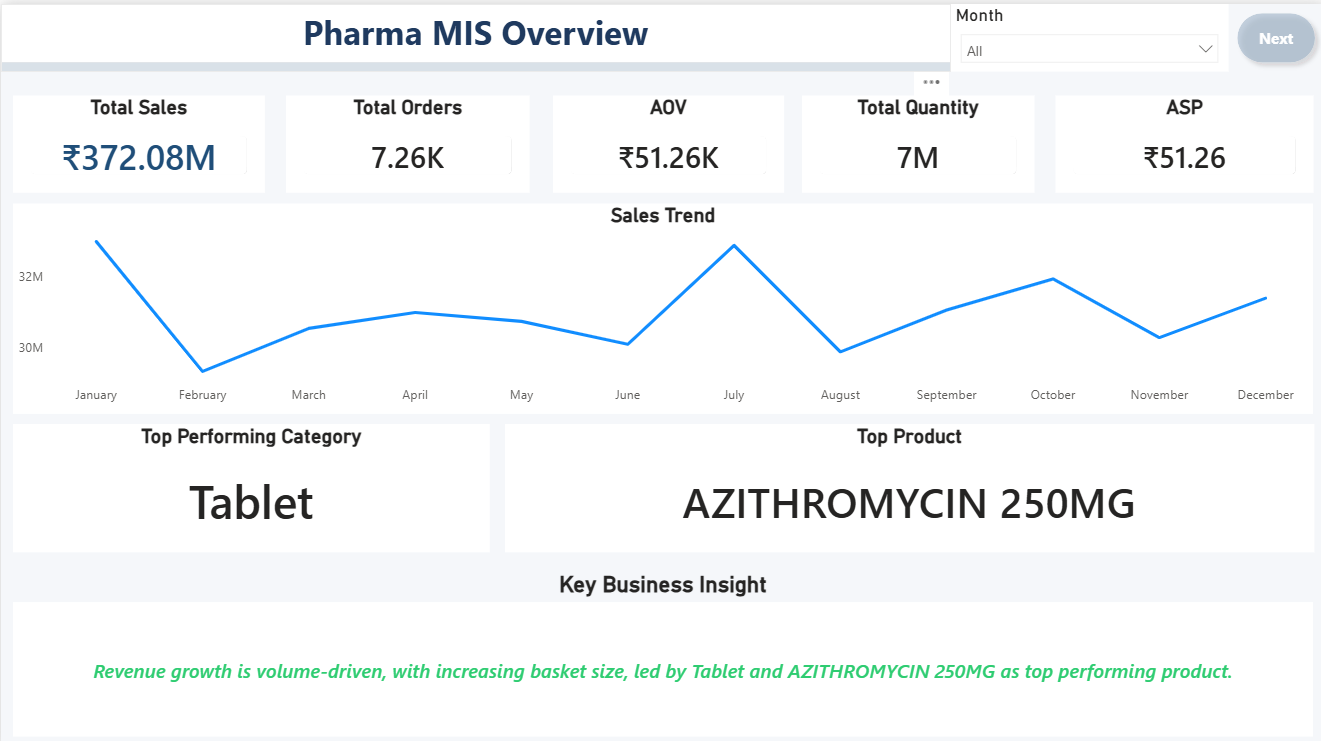

The dashboard page shown, as its layout file describes it:
{"tool":"powerbi","page":{"name":"Page 1","canvas":[1280,720],"ordinal":0},"visuals":[{"type":"textbox","box":[0,0,917.2,55.9],"z":0,"group":"g1"},{"type":"cardVisual","title":"Total Sales","fields":{"Data":["Measures_Table.Total Sales"]},"box":[12.3,87.7,243.1,93.8],"z":0},{"type":"shape","box":[0,56.8,917.2,8.8],"z":1000,"group":"g1"},{"type":"cardVisual","title":"Total Orders","fields":{"Data":["Measures_Table.Total Orders"]},"box":[275.4,87.7,235.4,93.8],"z":1000},{"type":"cardVisual","title":"AOV","fields":{"Data":["Measures_Table.AOV"]},"box":[533.8,87.7,223.1,93.8],"z":2000},{"type":"cardVisual","title":"Total Quantity","fields":{"Data":["Measures_Table.Total Quantity"]},"box":[773.8,87.7,224.6,93.8],"z":3000},{"type":"cardVisual","title":"ASP","fields":{"Data":["Measures_Table.Avg Selling Price"]},"box":[1018.5,87.7,249.2,93.8],"z":4000},{"type":"cardVisual","title":"Key Business Insight","fields":{"Data":["Measures_Table.Final Insight"]},"box":[12.1,548.5,1256.1,160.6],"z":5000},{"type":"cardVisual","title":"Top Performing Category","fields":{"Data":["Measures_Table.Top Category Name"]},"box":[12.1,406.1,460.6,124.2],"z":6000},{"type":"cardVisual","title":"Top Product","fields":{"Data":["Measures_Table.Top Product Name"]},"box":[486.4,406.1,781.8,124.2],"z":7000},{"type":"slicer","title":"Month","fields":{"Values":["DateTable.Date.Variation.Date Hierarchy.Month"]},"box":[917.2,0,269,65.5],"z":8000},{"type":"lineChart","title":"Sales Trend","fields":{"Category":["DateTable.Date.Variation.Date Hierarchy.Month"],"Y":["Measures_Table.Total Sales"]},"box":[12.1,192.4,1256.1,203],"z":9000},{"type":"actionButton","box":[1186.2,0,93.1,65.5],"z":10000},{"type":"group","id":"g1","title":"Group 1","box":[0,0,917.2,65.5],"z":11000}]}

Visuals, with their boxes in screenshot pixels (x1, y1, x2, y2), scaled from the page's 1280x720 canvas onto the 1321x741 screenshot:
textbox: (x1=0, y1=0, x2=947, y2=58)
"Total Sales" cardVisual: (x1=13, y1=90, x2=264, y2=187)
shape: (x1=0, y1=58, x2=947, y2=68)
"Total Orders" cardVisual: (x1=284, y1=90, x2=527, y2=187)
"AOV" cardVisual: (x1=551, y1=90, x2=781, y2=187)
"Total Quantity" cardVisual: (x1=799, y1=90, x2=1030, y2=187)
"ASP" cardVisual: (x1=1051, y1=90, x2=1308, y2=187)
"Key Business Insight" cardVisual: (x1=12, y1=564, x2=1309, y2=730)
"Top Performing Category" cardVisual: (x1=12, y1=418, x2=488, y2=546)
"Top Product" cardVisual: (x1=502, y1=418, x2=1309, y2=546)
"Month" slicer: (x1=947, y1=0, x2=1224, y2=67)
"Sales Trend" lineChart: (x1=12, y1=198, x2=1309, y2=407)
actionButton: (x1=1224, y1=0, x2=1320, y2=67)
"Group 1" group: (x1=0, y1=0, x2=947, y2=67)
